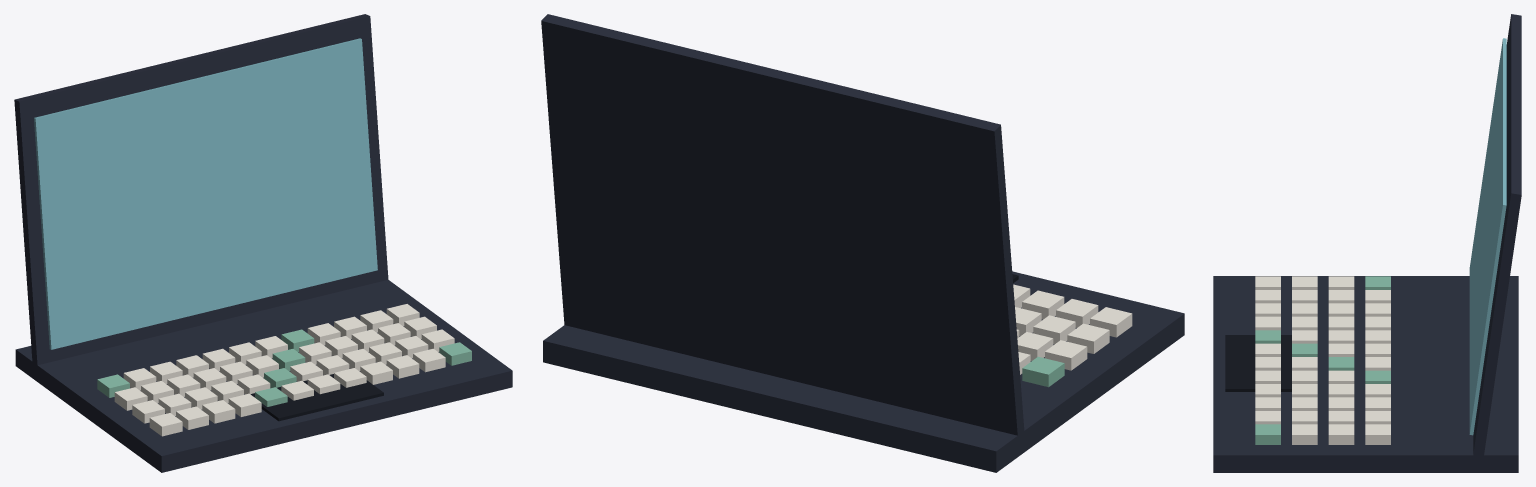
Rendered from laptop-open.glb.
3 renders of one model, left to right at view 1: azimuth 30°, elevation 25°; view 2: azimuth 150°, elevation 25°; view 3: azimuth 270°, elevation 25°, orthographic. The views are drawn at different scales.
Parts seen in each view (by area): view 1: laptop-open; view 2: laptop-open; view 3: laptop-open.
Part boxes in pixels (<box>): laptop-open: <box>14,14,512,472</box>; laptop-open: <box>541,14,1184,472</box>; laptop-open: <box>1213,14,1521,472</box>.
Bounding box in the file's own units: 33 × 24 × 24.
